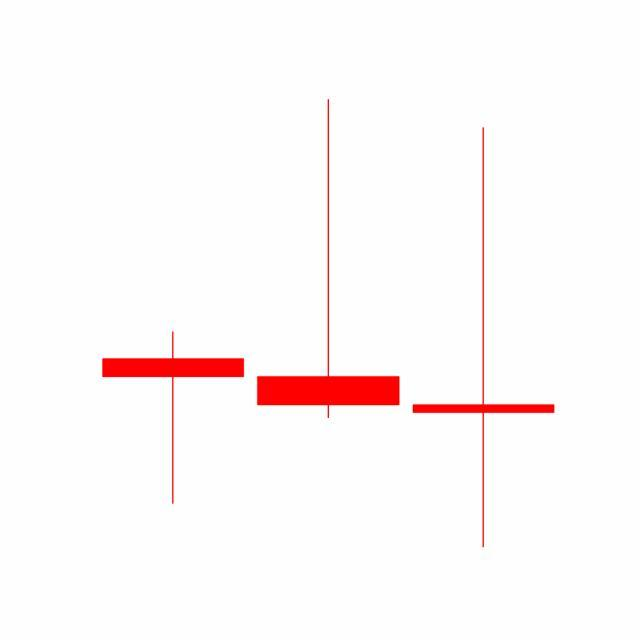Spinning Top: (406, 124, 562, 554)
